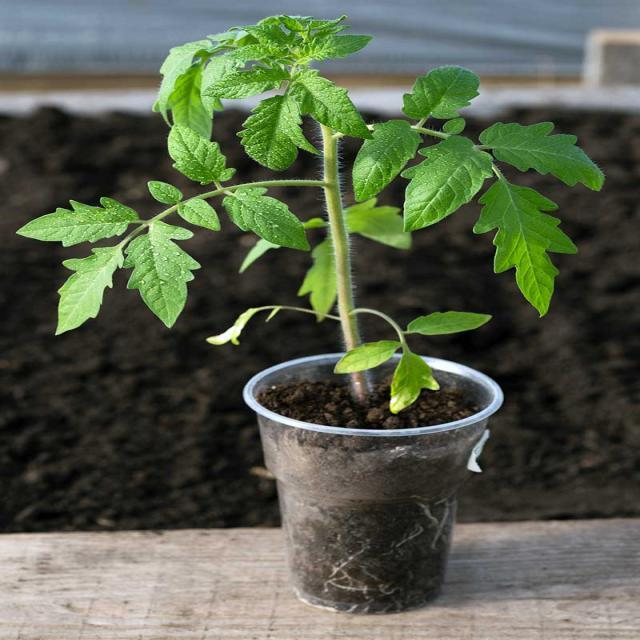tomato: (15, 15, 604, 415), (14, 15, 487, 415)
